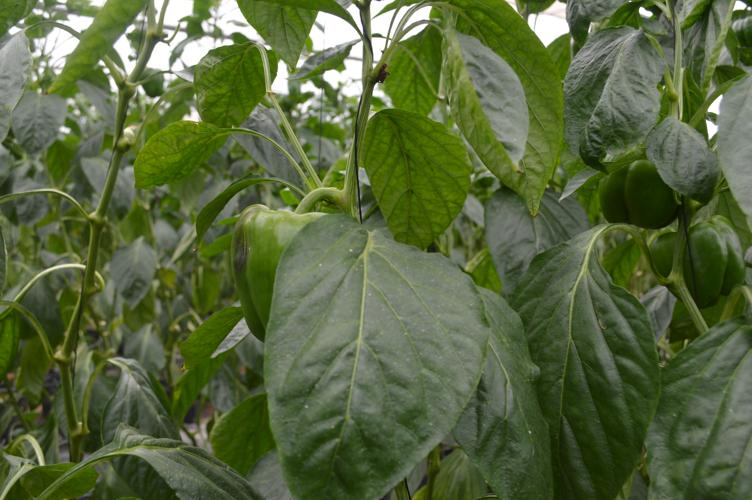BellPepper: (215, 196, 314, 339), (646, 216, 749, 324), (588, 137, 677, 230)
